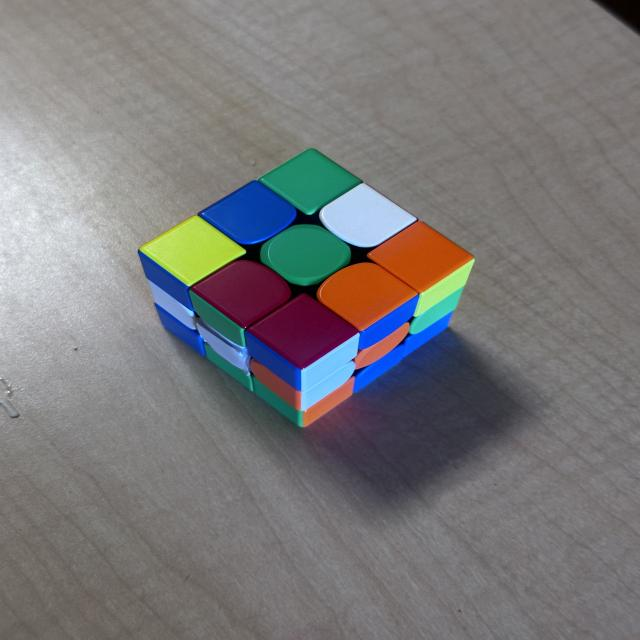sticker: (244, 294, 360, 387), (366, 221, 474, 320), (139, 215, 246, 290), (315, 262, 416, 337), (257, 147, 363, 217), (192, 260, 292, 331), (317, 183, 418, 248), (200, 180, 297, 247), (260, 224, 352, 287)
